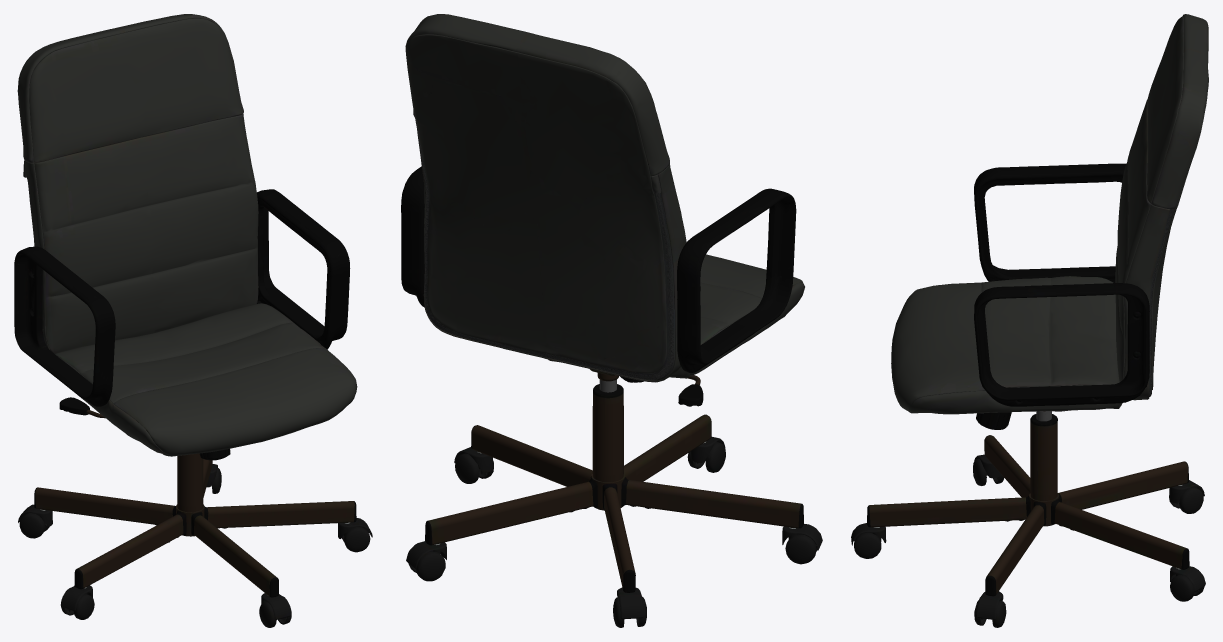
The model's file is office_chair_ikea_swivel_bomstad_black_wicked_vixx.glb.
3 views of the same model, side by side, from view 1: azimuth 30°, elevation 25°; view 2: azimuth 150°, elevation 25°; view 3: azimuth 270°, elevation 25° (orthographic). The views are drawn at different scales.
Visible parts, largest first — view 1: RENBERGET_SimplygonCastMaterial.001_0; view 2: RENBERGET_SimplygonCastMaterial.001_0; view 3: RENBERGET_SimplygonCastMaterial.001_0.
Boxes of the visible parts, x1,y1,x2,y2 form: RENBERGET_SimplygonCastMaterial.001_0: [14, 14, 372, 627]; RENBERGET_SimplygonCastMaterial.001_0: [401, 14, 822, 627]; RENBERGET_SimplygonCastMaterial.001_0: [851, 14, 1208, 627].
Size of the model in its own units: 0.6771 by 1.01 by 0.6511.
Materials: 1 (1 with a texture image).
